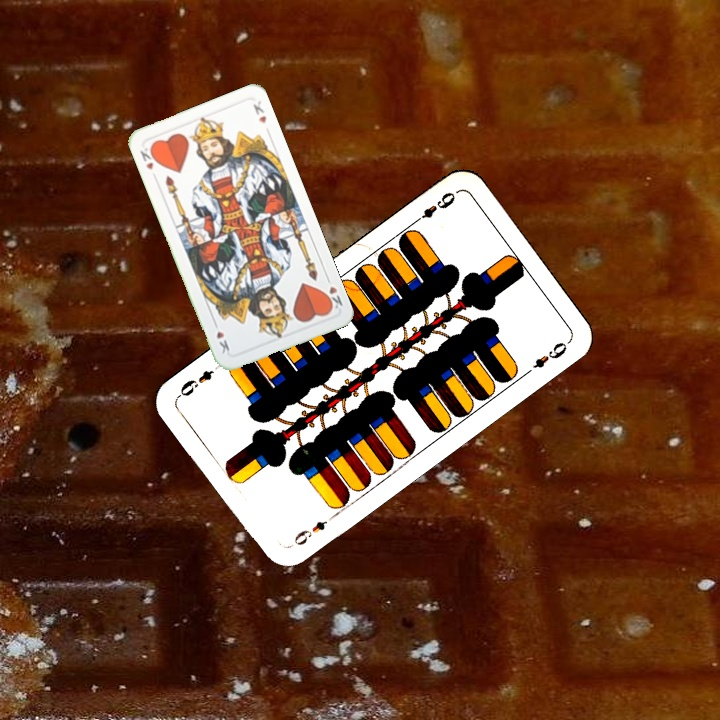E9: (409, 188, 458, 227), (286, 516, 330, 550)
HK: (320, 272, 345, 313), (136, 143, 160, 173)
